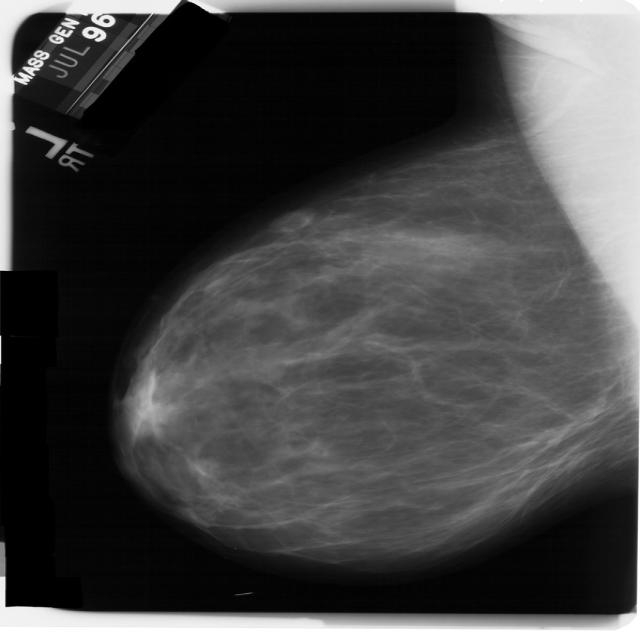tumour: (264, 208, 315, 233)
